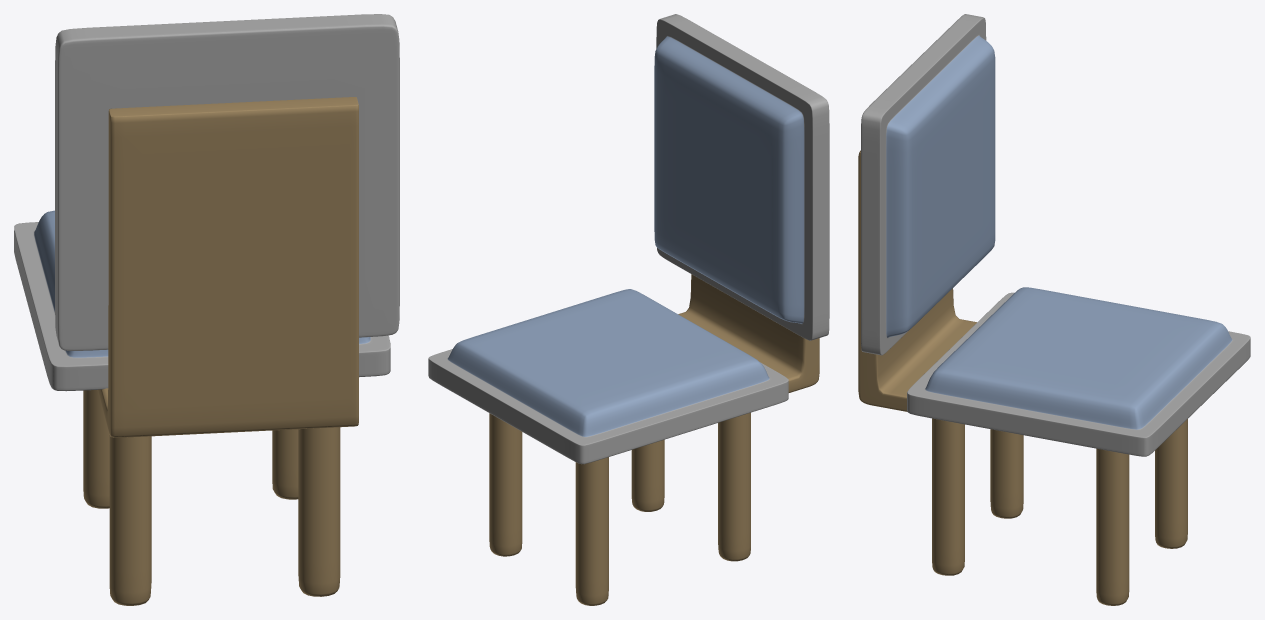
The model's file is MM_SillaComedor.fbx.
3 renders of one model, left to right at view 1: azimuth 30°, elevation 25°; view 2: azimuth 150°, elevation 25°; view 3: azimuth 270°, elevation 25°, orthographic. The views are drawn at different scales.
Parts seen in each view (by area): view 1: Silla_comedorShape; view 2: Silla_comedorShape; view 3: Silla_comedorShape.
Part boxes in pixels (x1,y1,x2,y2): Silla_comedorShape: (14, 14, 399, 605); Silla_comedorShape: (428, 14, 829, 605); Silla_comedorShape: (858, 14, 1250, 605).
Bounding box in the file's own units: 12.34 × 17.32 × 13.25.
